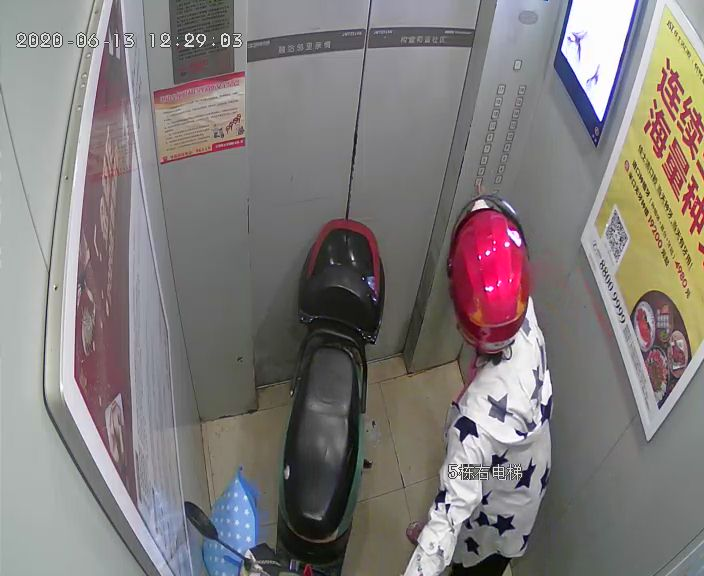Electric-bicycle: (184, 218, 383, 576)
